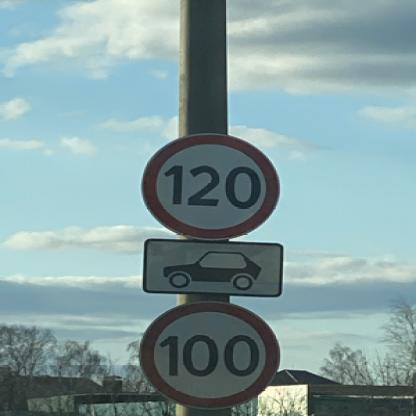speedlimit: (134, 300, 278, 410), (139, 132, 279, 238)
